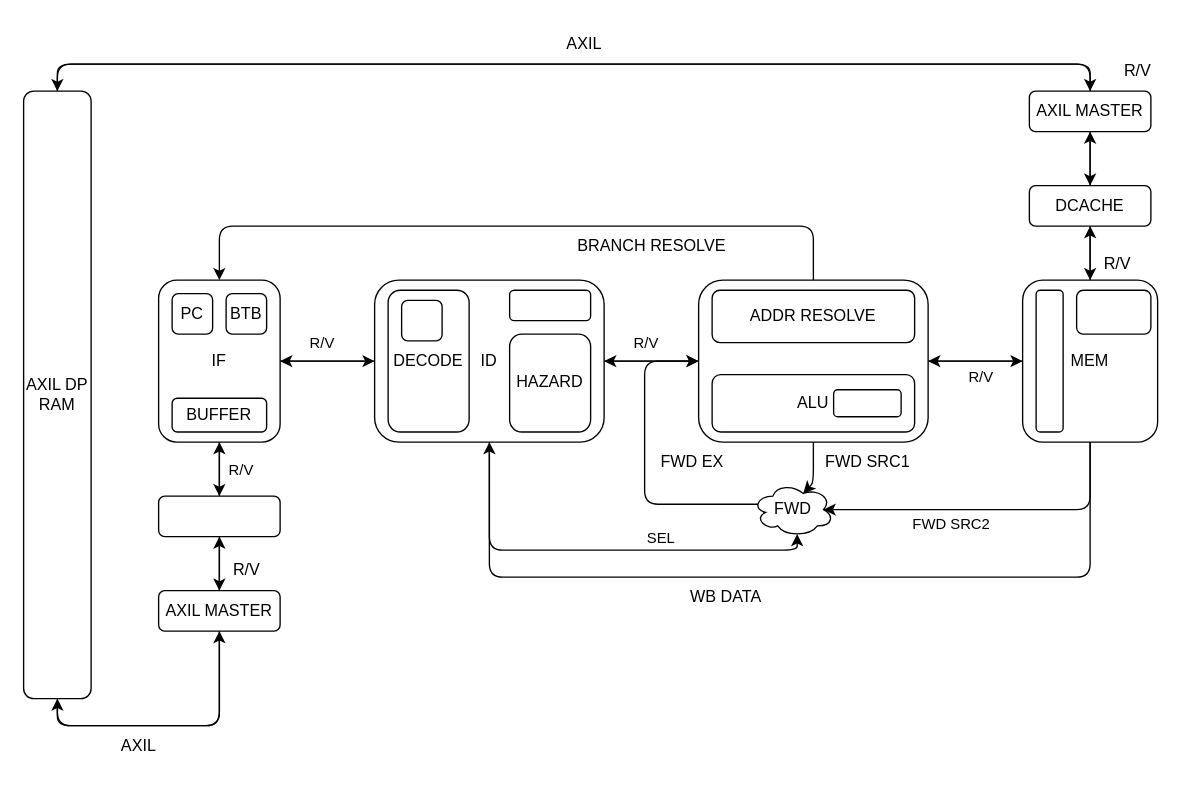
The diagram is 1188 pixels wide and 788 high, and some of its shapes have lost their labels. Each missing label, with the box of its shape:
EX: (697, 279, 928, 442)
FLAGS: (832, 388, 901, 417)
ICACHE: (157, 495, 280, 537)
IMM GEN: (400, 299, 442, 341)
P E N D I N G: (1035, 289, 1063, 432)
REGFILE: (508, 289, 591, 321)
WB MASK: (1075, 289, 1151, 334)
